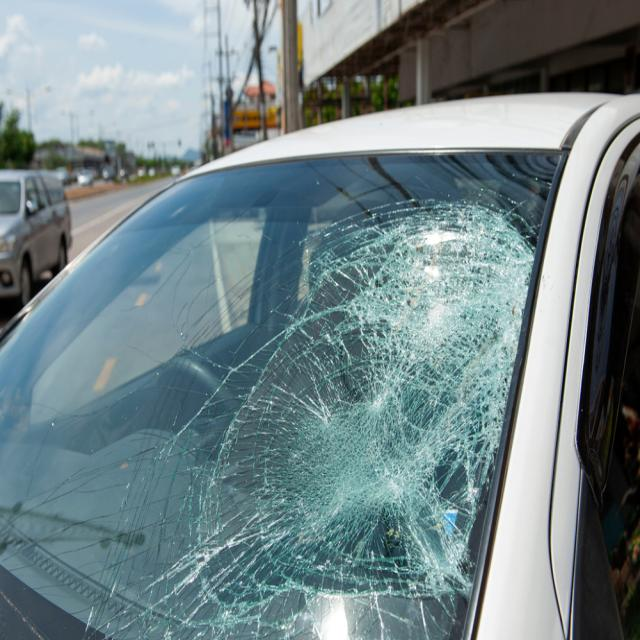Windshield: (78, 158, 564, 640)
